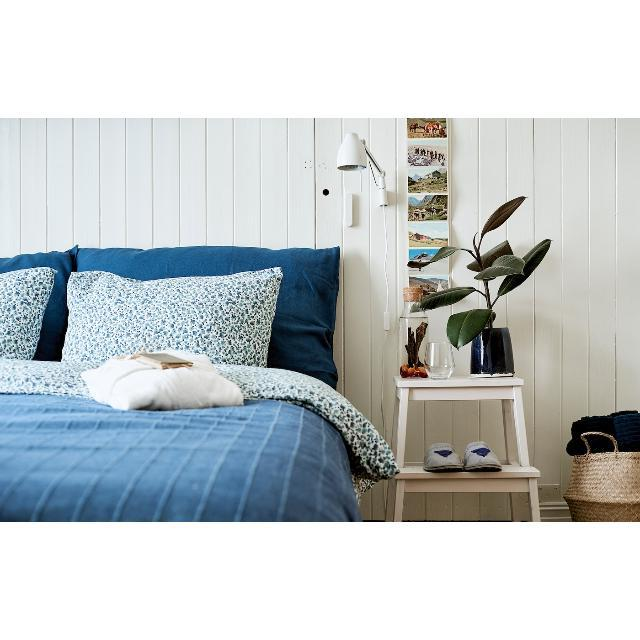pillow: (72, 243, 339, 386), (61, 268, 285, 362), (0, 267, 51, 362)
